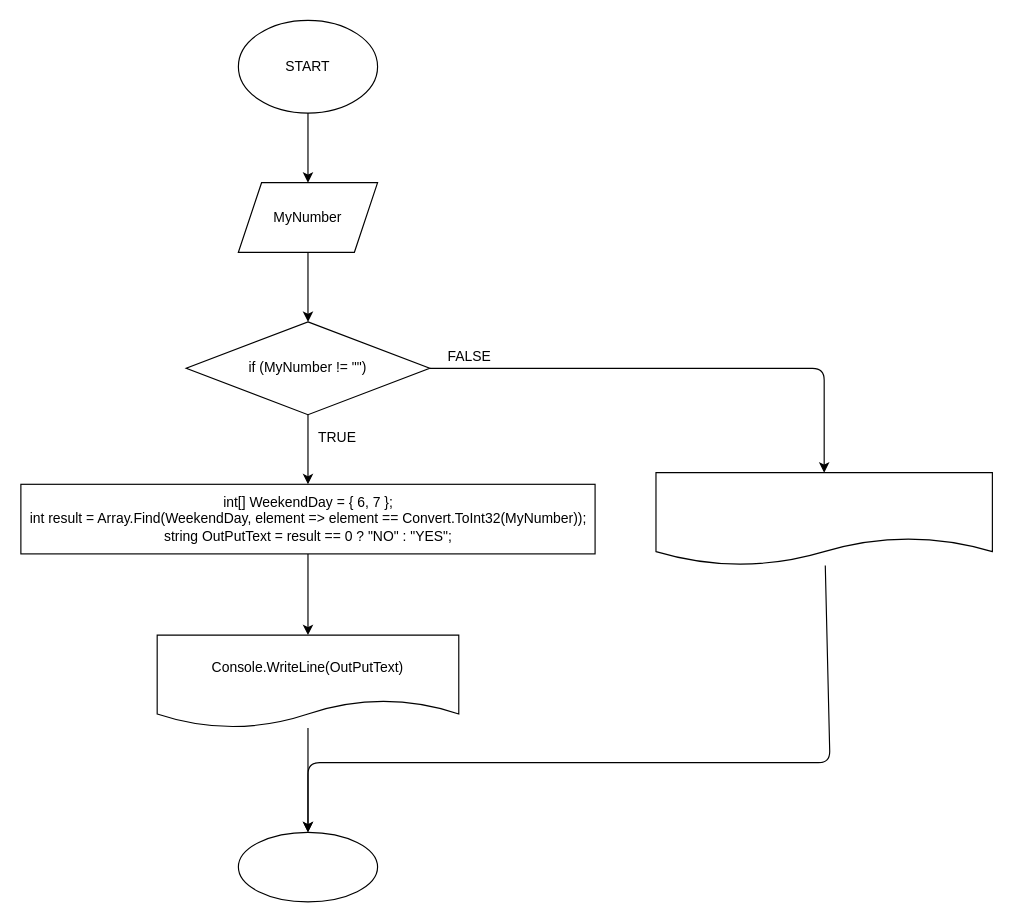
Image size: 1013x922. Some labels were removed from this diagram. Each missing label, with the centre of its shape:
Console.WriteLine("You don't enter number!"): the point at 823,519
END: the point at 307,866
